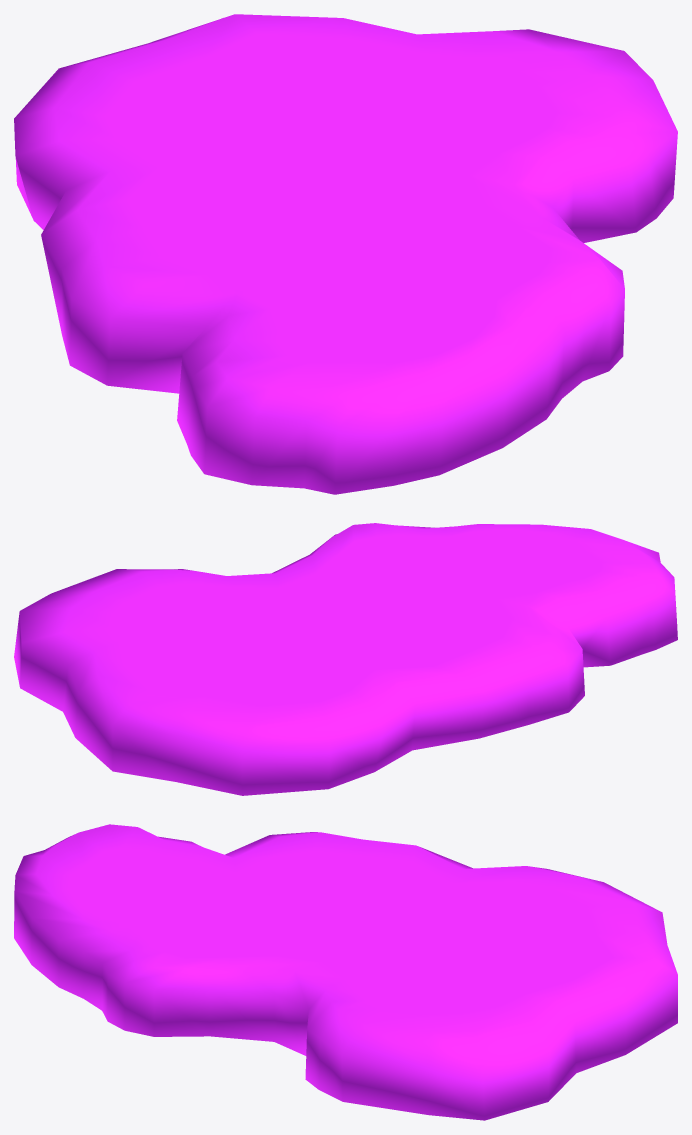
File: LandStage3.gltf
3 views of the same model, one above another, from view 1: azimuth 30°, elevation 25°; view 2: azimuth 150°, elevation 25°; view 3: azimuth 270°, elevation 25° (orthographic). The views are drawn at different scales.
Parts seen in each view (by area): view 1: country; view 2: country; view 3: country.
Part boxes in pixels (<box>): country: <box>14,14,677,494</box>; country: <box>14,523,677,795</box>; country: <box>14,824,677,1120</box>.
Bounding box in the file's own units: 12.47 × 1.47 × 14.29.
